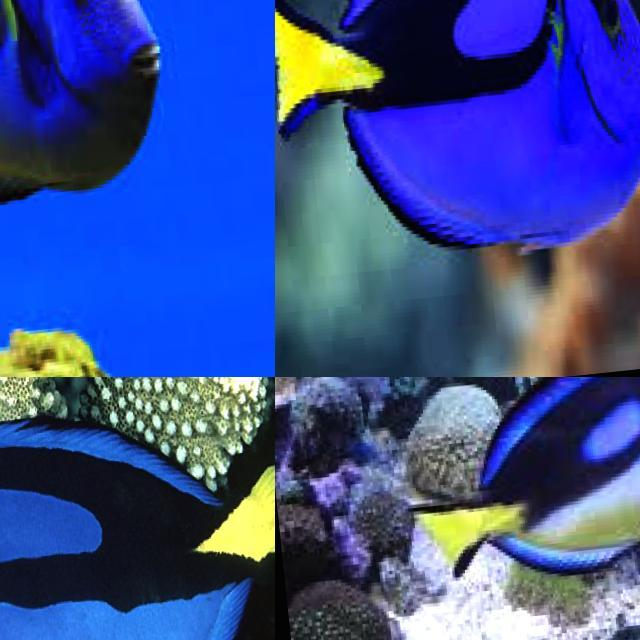BlueTang: (285, 0, 640, 263), (1, 425, 277, 640), (421, 377, 640, 596), (0, 0, 163, 201)
